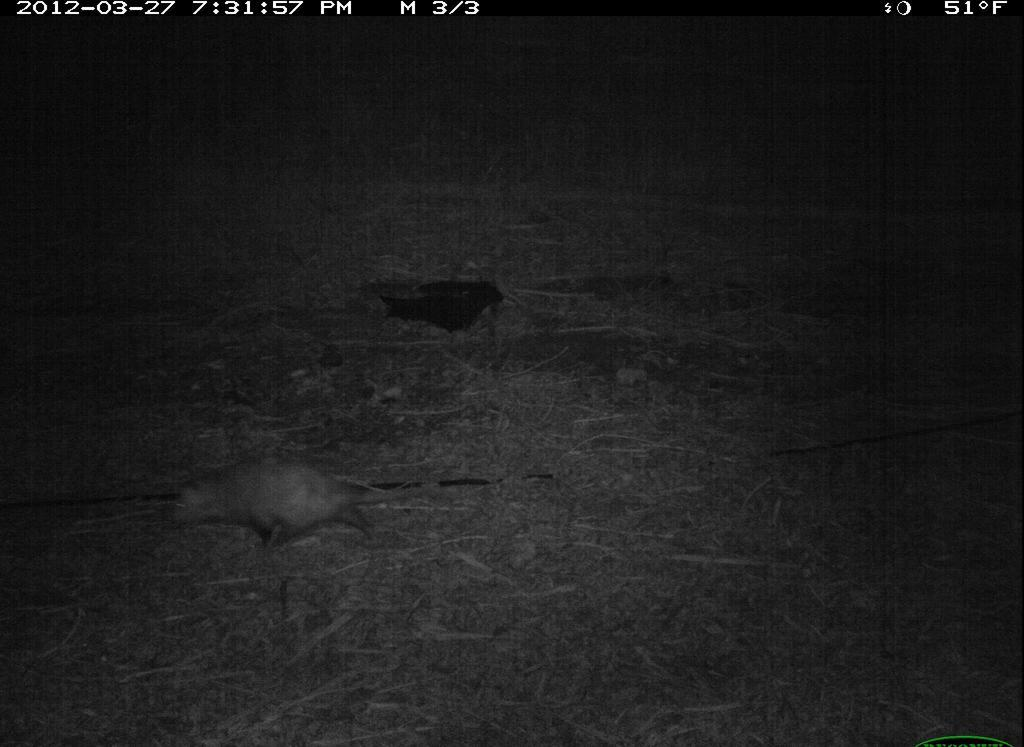opossum: (130, 417, 423, 565)
